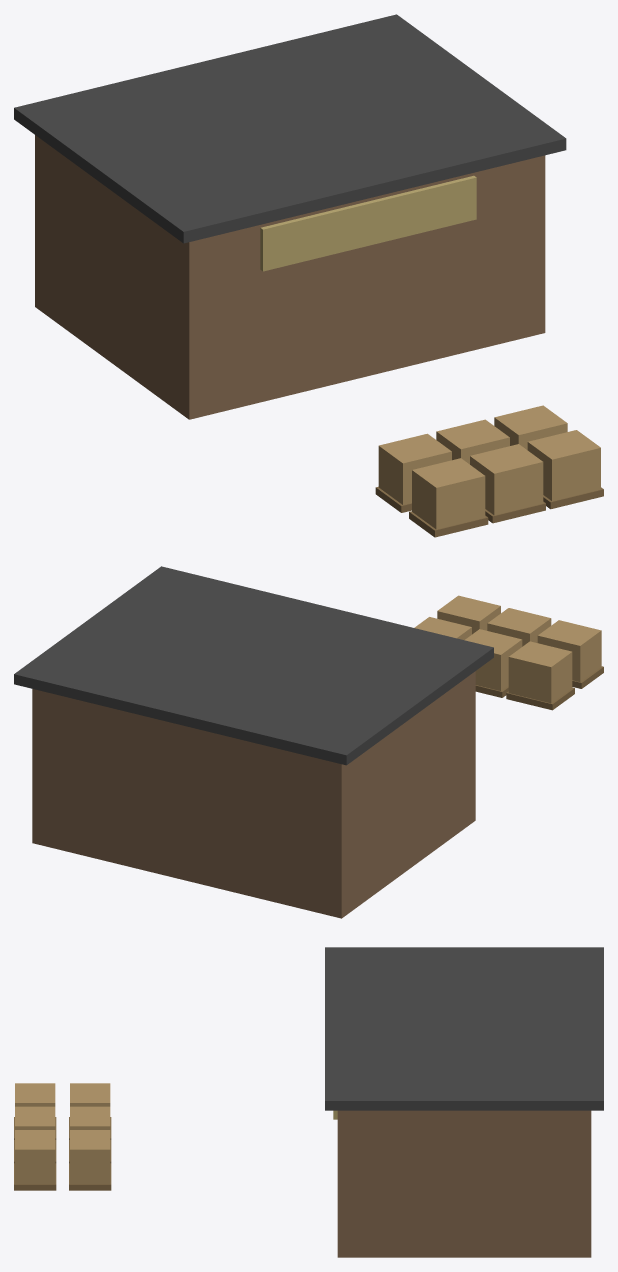
File: farm_shop.glb
3 views of the same model, one above another, from view 1: azimuth 30°, elevation 25°; view 2: azimuth 150°, elevation 25°; view 3: azimuth 270°, elevation 25° (orthographic). The views are drawn at different scales.
Parts seen in each view (by area): view 1: store, pallets; view 2: store, pallets; view 3: store, pallets.
Boxes of the visible parts, x1,y1,x2,y2 form: store: (14, 14, 566, 419); pallets: (375, 405, 603, 537); store: (14, 566, 493, 918); pallets: (414, 595, 603, 710); store: (325, 947, 603, 1257); pallets: (14, 1083, 111, 1190).
Size of the model in its own units: 8.6 by 4.22 by 13.95.
